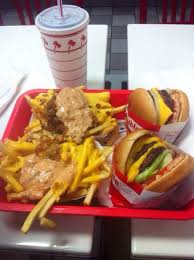hamburger: (118, 129, 190, 196), (125, 83, 190, 141)
